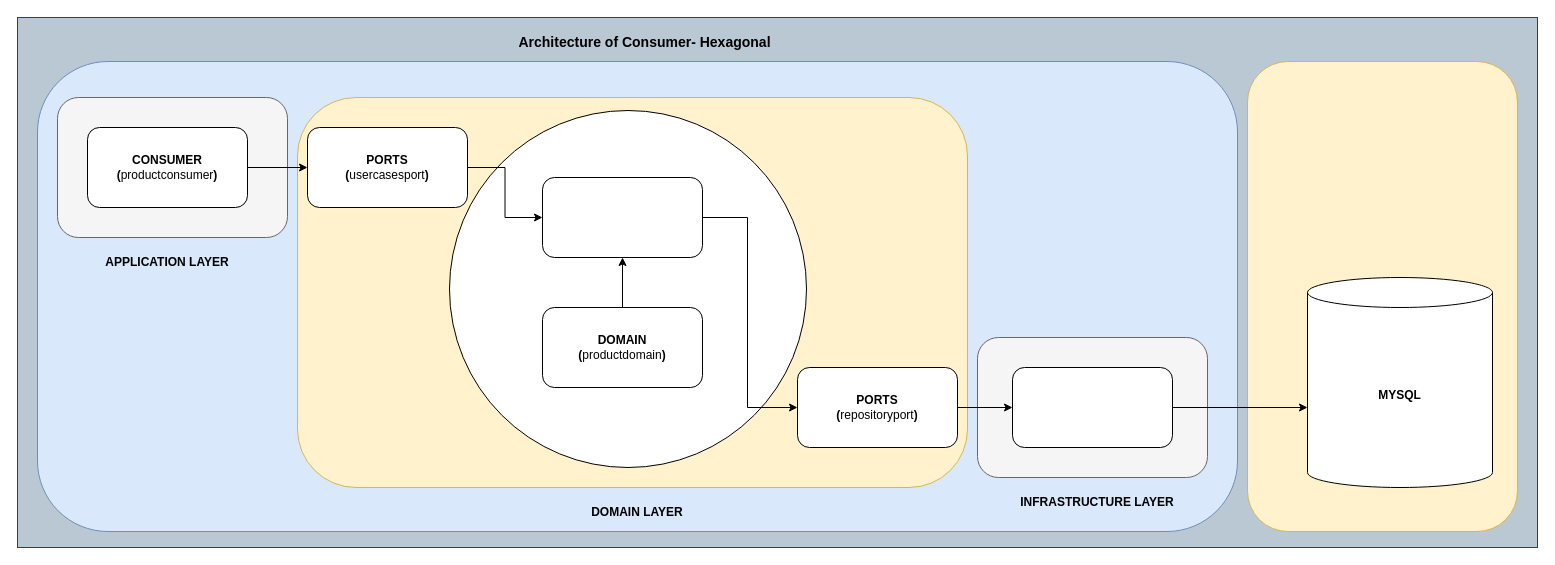
Some shapes in this 1555 by 565 pixel diagram are drawn without their labels. Each missing label, with the centre of its shape:
REPOSITORY ( productrepository ): the point at 1092,407
USER CASE ( productusercase ): the point at 622,217
